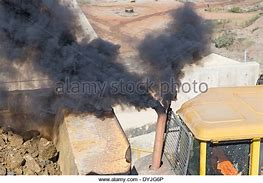smoke: (4, 1, 186, 109)
